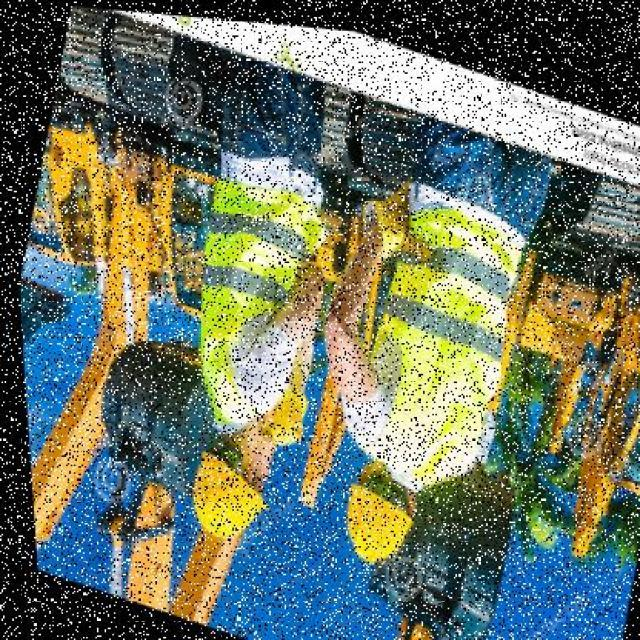helmet: (165, 436, 277, 554), (311, 461, 417, 561)
vest: (332, 178, 534, 490), (162, 157, 324, 423)
